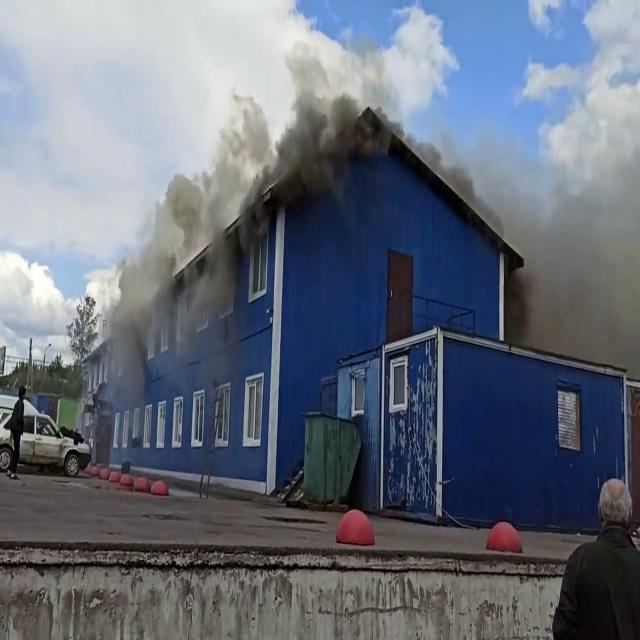Smoke: (100, 124, 240, 388), (270, 52, 378, 195)
